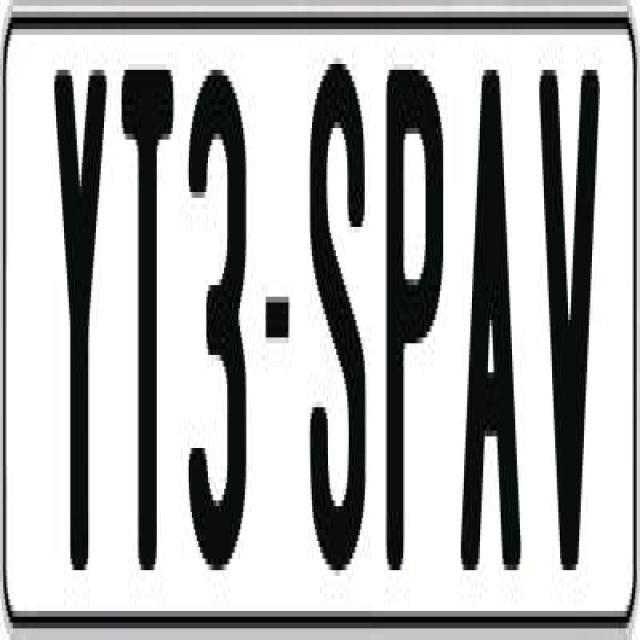3: (188, 52, 252, 558)
A: (461, 58, 526, 559)
P: (387, 58, 451, 576)
S: (309, 46, 368, 552)
T: (118, 52, 172, 570)
V: (536, 64, 602, 570)
Y: (49, 58, 108, 564)
